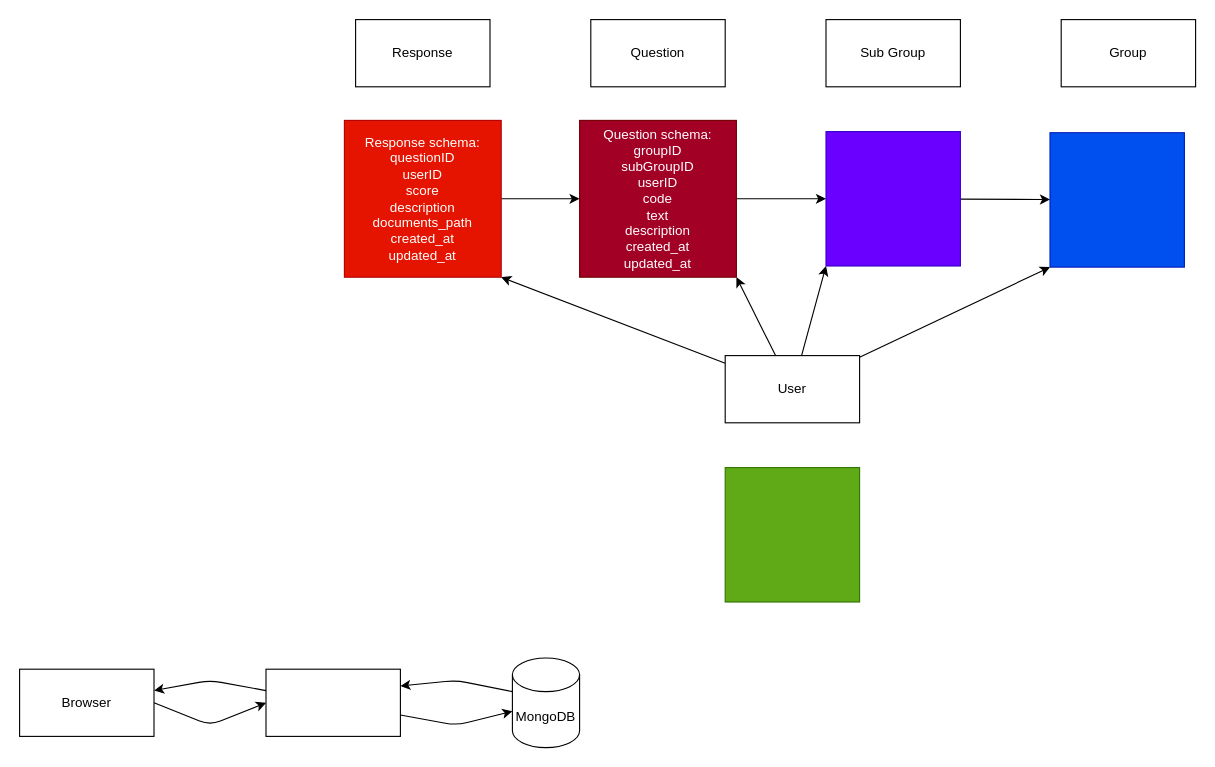
Some shapes in this 1215 by 767 pixel diagram are drawn without their labels. The shapes that lost their labels are listed below. From the top down, each one's centre as x and y in pixels, then its label:
At point (892, 198): "Sub Group schema: userID groupID name created_at updated_at".
At point (1116, 199): "Group schema: userID name created_at updated_at".
At point (792, 534): "User schema: email password role created_at updated_at".
At point (332, 702): "Nodejs - Express".
